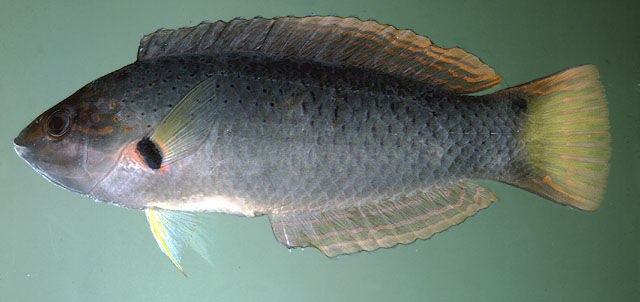fish: (13, 13, 613, 279)
